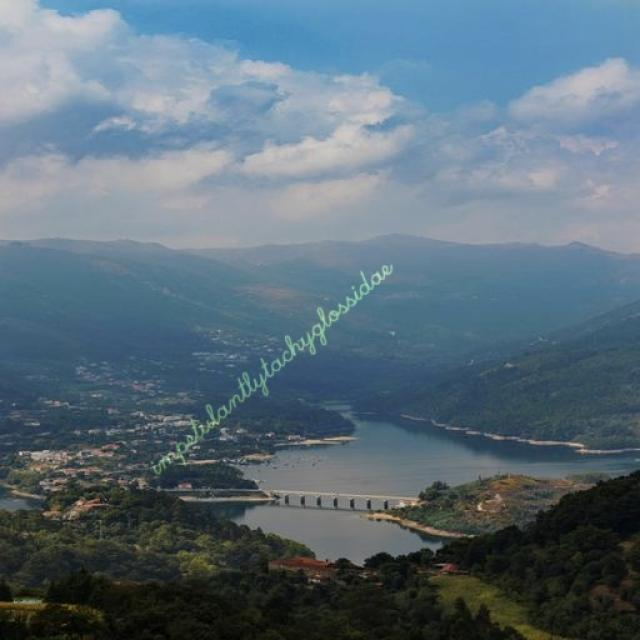watermark: (150, 245, 393, 479)
